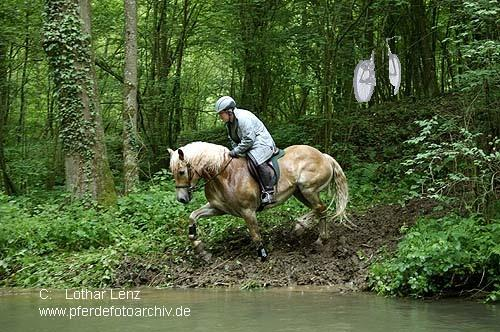tampered: (354, 37, 401, 102)
